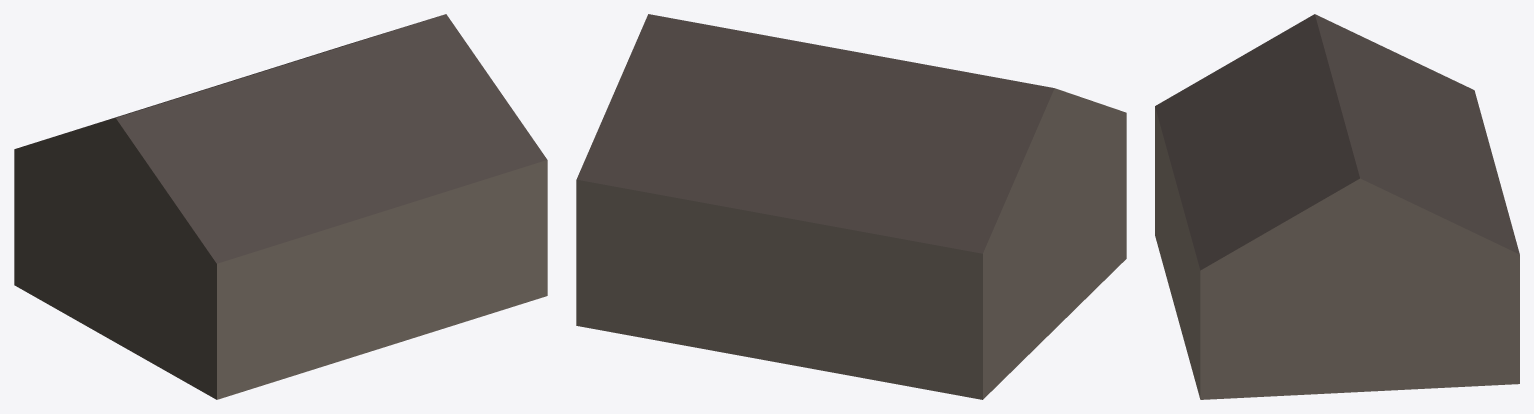
3 views of the same model, side by side, from view 1: azimuth 30°, elevation 25°; view 2: azimuth 150°, elevation 25°; view 3: azimuth 270°, elevation 25° (orthographic). The views are drawn at different scales.
Visible parts, largest first — view 1: HP-w859424228; view 2: HP-w859424228; view 3: HP-w859424228.
Part boxes in pixels (left/top/right/bottom): HP-w859424228: left=14, top=14, right=547, bottom=399; HP-w859424228: left=576, top=14, right=1126, bottom=399; HP-w859424228: left=1155, top=14, right=1519, bottom=399.
Size of the model in its own units: 17.93 by 9.9 by 15.33.
